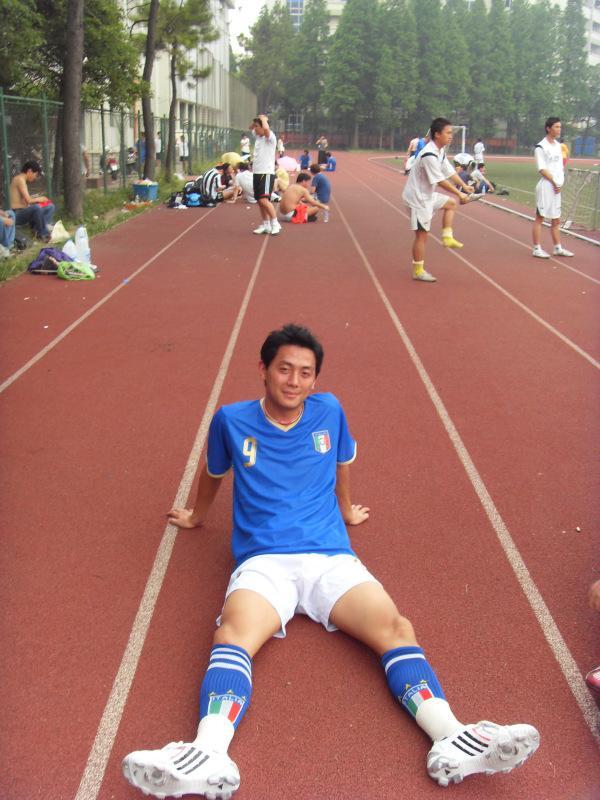person: (160, 310, 481, 790)
